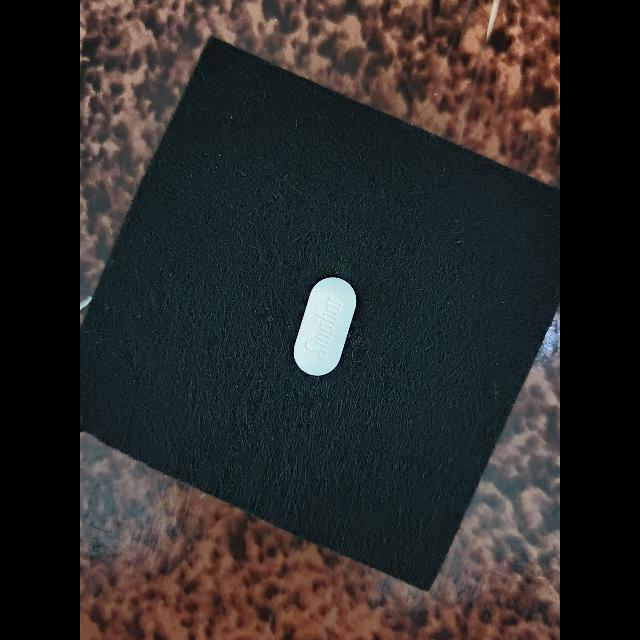Intact Pill: (293, 277, 357, 376)
